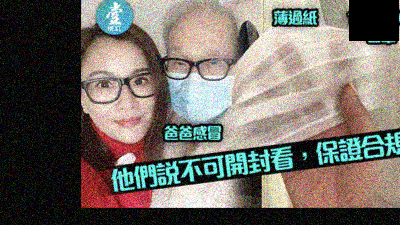with_mask: (161, 40, 234, 123)
without_mask: (85, 65, 156, 143)
